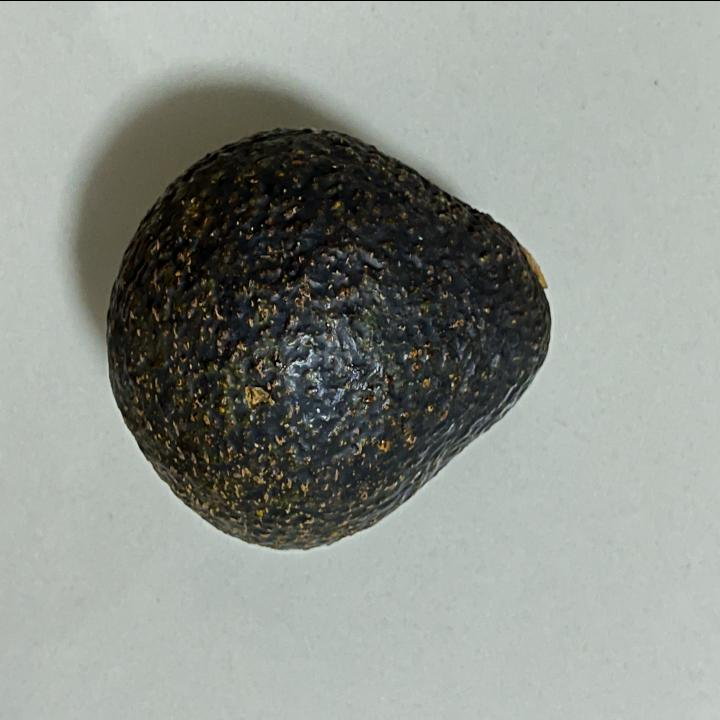Level2: (101, 121, 561, 559)
